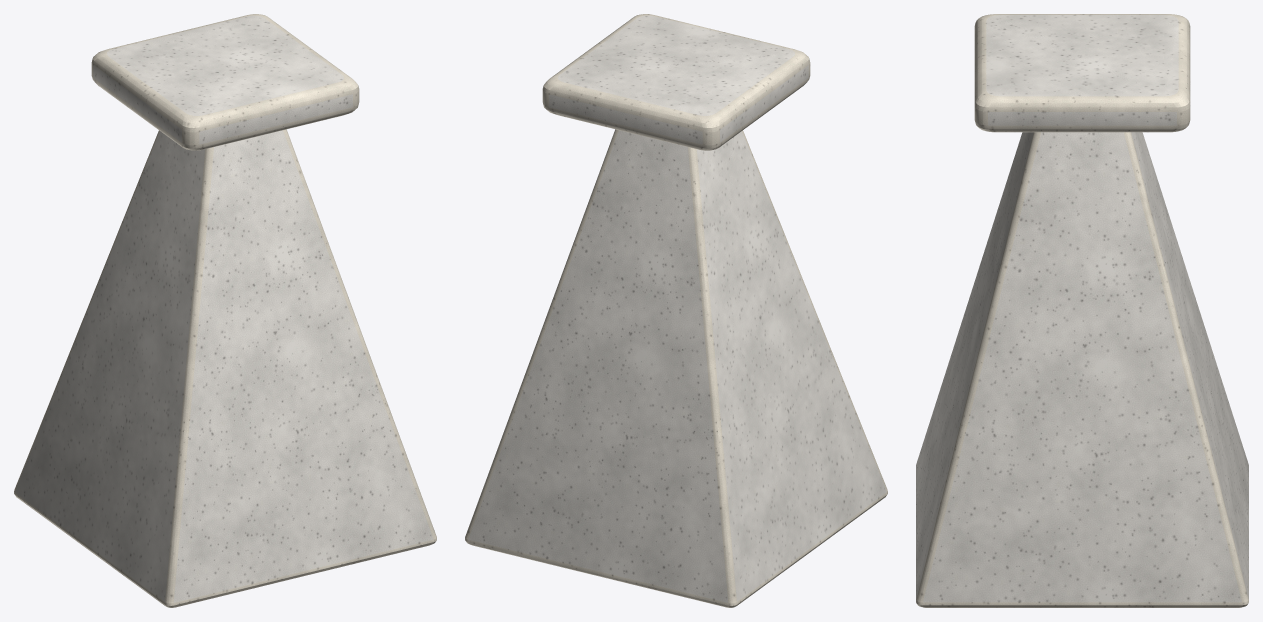
Rendered from pawn-white-hd.glb.
3 views of the same model, side by side, from view 1: azimuth 30°, elevation 25°; view 2: azimuth 150°, elevation 25°; view 3: azimuth 270°, elevation 25° (orthographic). The views are drawn at different scales.
Visible parts, largest first — view 1: pawn_white; view 2: pawn_white; view 3: pawn_white.
Boxes of the visible parts, <box> form: pawn_white: <box>14,14,436,607</box>; pawn_white: <box>465,14,887,607</box>; pawn_white: <box>916,14,1248,607</box>.
Size of the model in its own units: 0.511 by 0.82 by 0.511.
2 materials, 2 textured.
